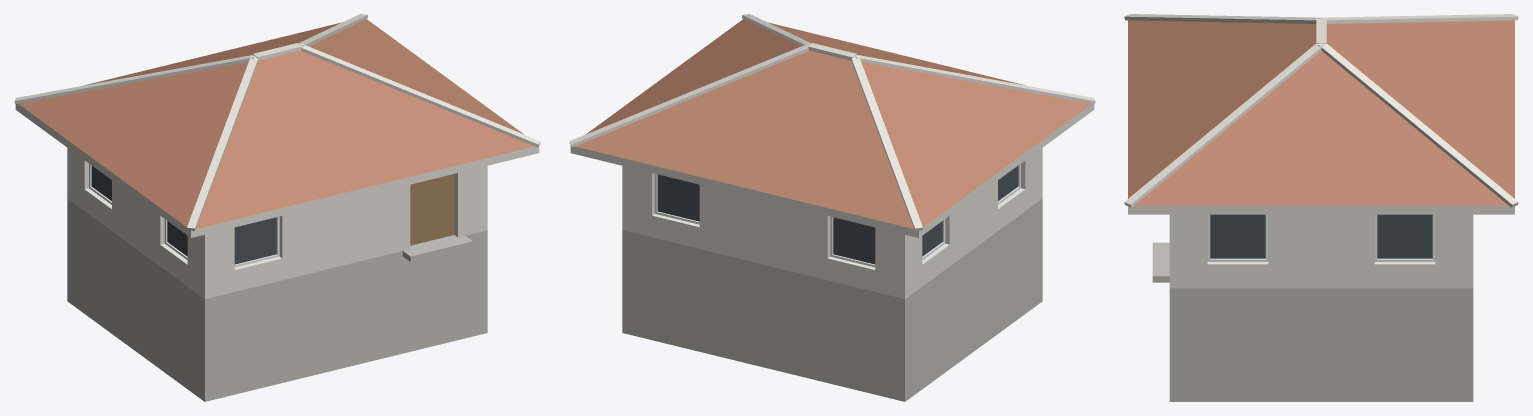
Rendered from tropical_hipped_1_s.glb.
The picture shows the model from 3 angles, left to right: view 1: azimuth 30°, elevation 25°; view 2: azimuth 150°, elevation 25°; view 3: azimuth 270°, elevation 25°; orthographic projection. The views are drawn at different scales.
Parts seen in each view (by area): view 1: tropical_hipped_1_s; view 2: tropical_hipped_1_s; view 3: tropical_hipped_1_s.
Boxes of the visible parts, x1=… form: tropical_hipped_1_s: x1=14, y1=14, x2=540, y2=401; tropical_hipped_1_s: x1=569, y1=14, x2=1095, y2=401; tropical_hipped_1_s: x1=1124, y1=14, x2=1518, y2=401.
Bounding box in the file's own units: 11.89 × 8.57 × 10.39.
